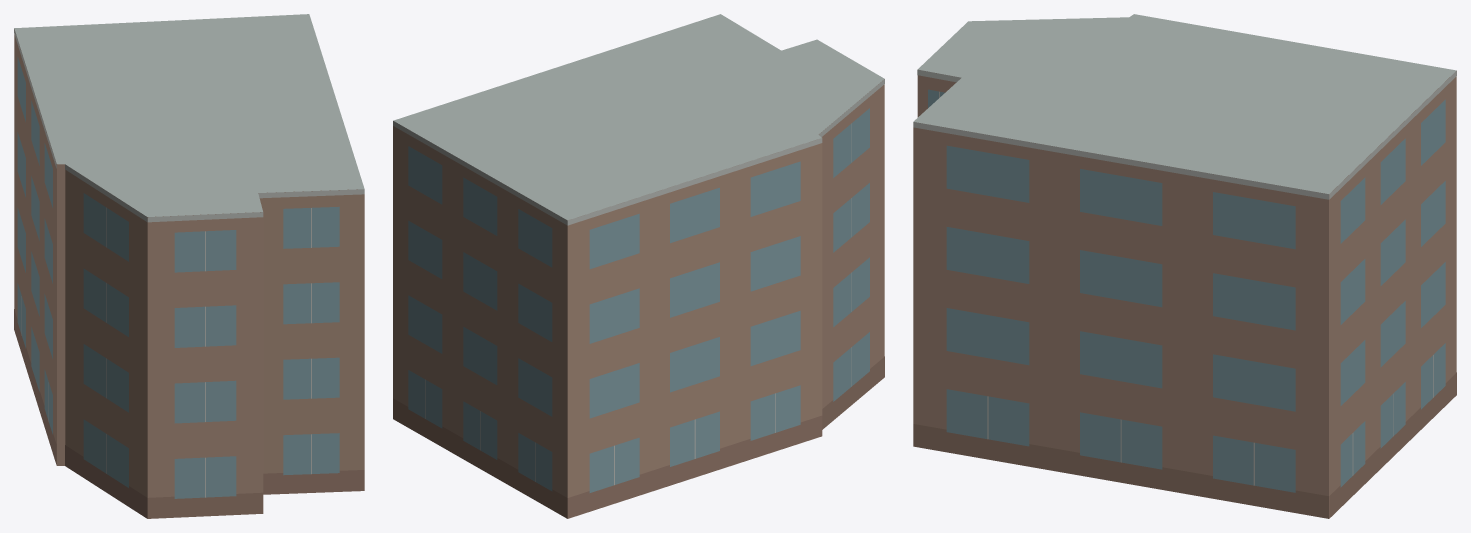
Rendered from survey-upis-32844534.glb.
3 renders of one model, left to right at view 1: azimuth 30°, elevation 25°; view 2: azimuth 150°, elevation 25°; view 3: azimuth 270°, elevation 25°, orthographic. The views are drawn at different scales.
Parts seen in each view (by area): view 1: survey-upis-32844534.tmp; view 2: survey-upis-32844534.tmp; view 3: survey-upis-32844534.tmp.
Part boxes in pixels (bbox=[...]): survey-upis-32844534.tmp: bbox=[14, 14, 364, 518]; survey-upis-32844534.tmp: bbox=[393, 14, 884, 518]; survey-upis-32844534.tmp: bbox=[913, 14, 1456, 518].
Bounding box in the file's own units: 16.79 × 14.1 × 21.4.
